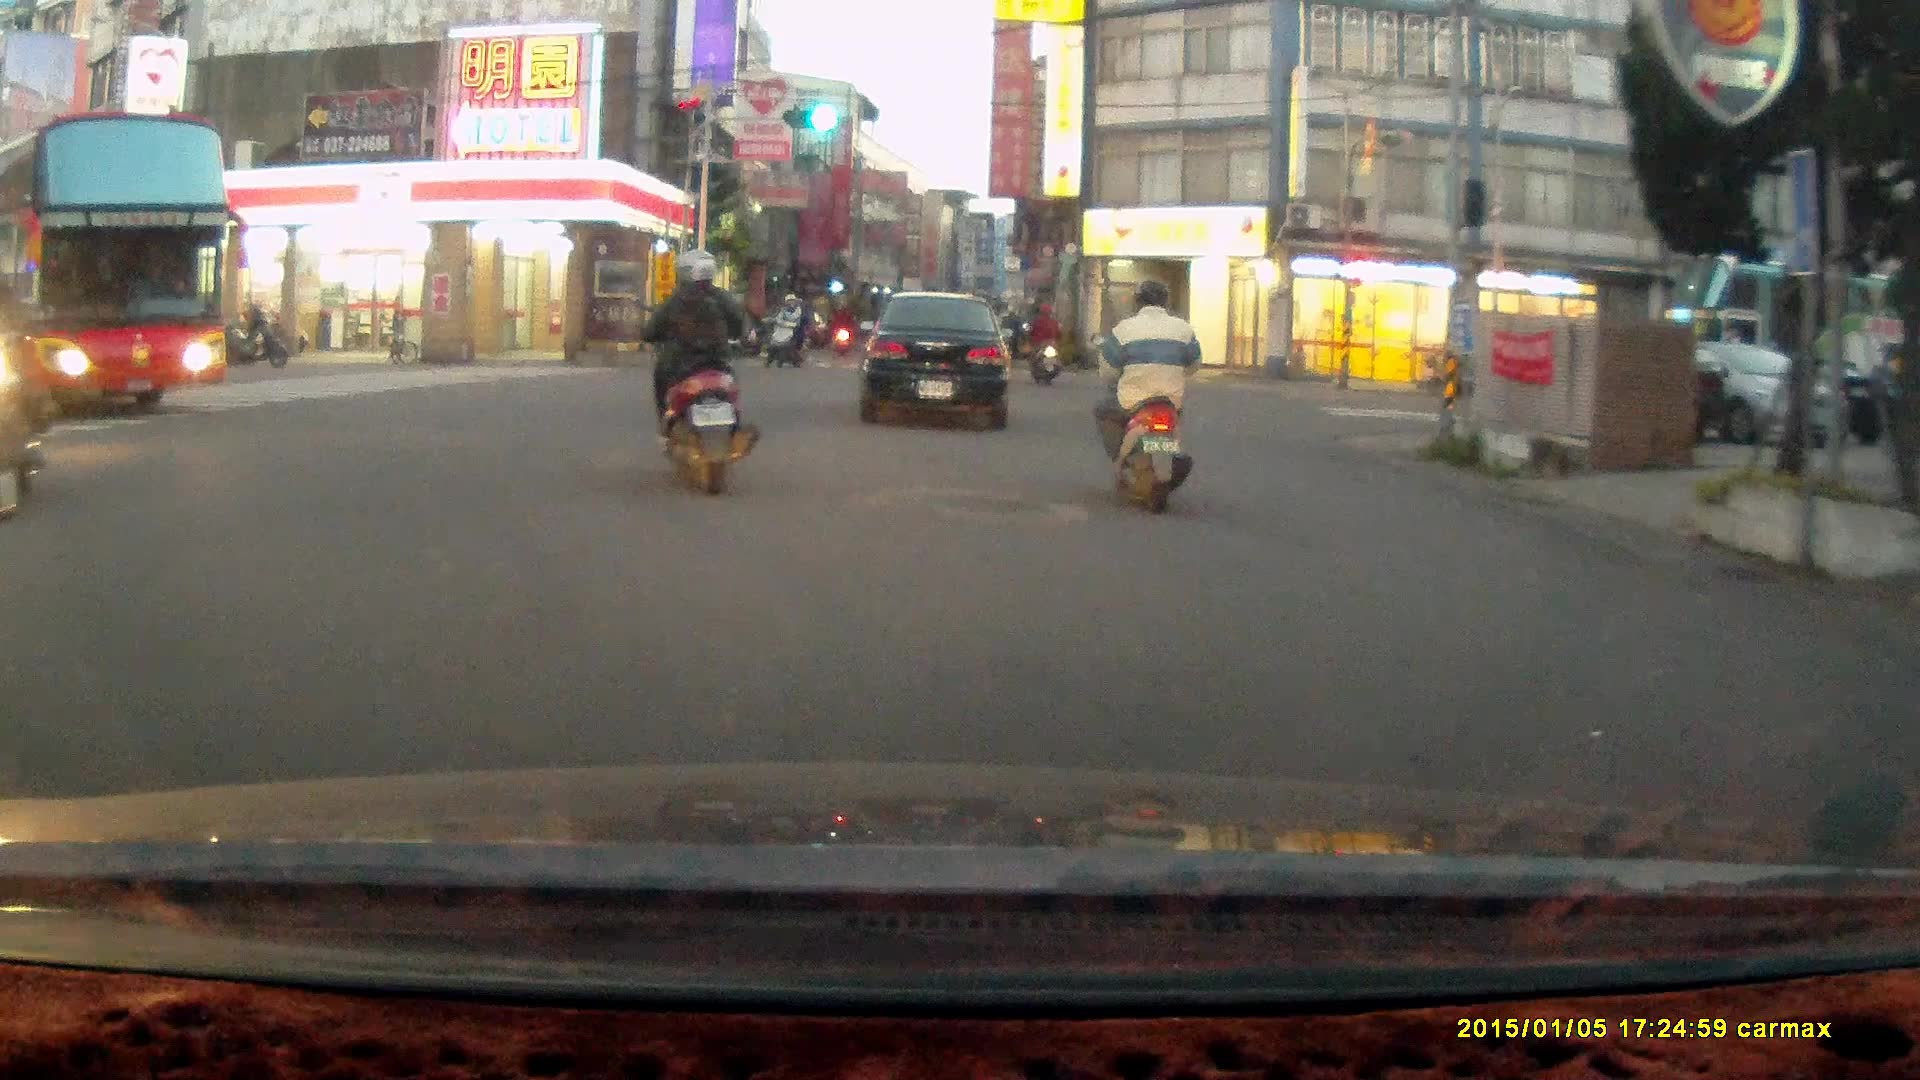rider: (634, 249, 761, 494), (1088, 278, 1200, 516), (1025, 297, 1064, 388), (764, 289, 804, 368)
vehicle: (1, 114, 237, 420), (1589, 338, 1856, 451), (863, 289, 1011, 430)
